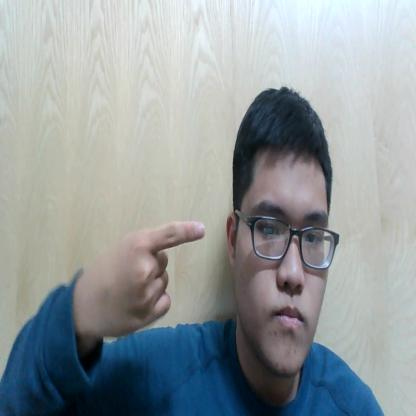left: (88, 216, 209, 344)
